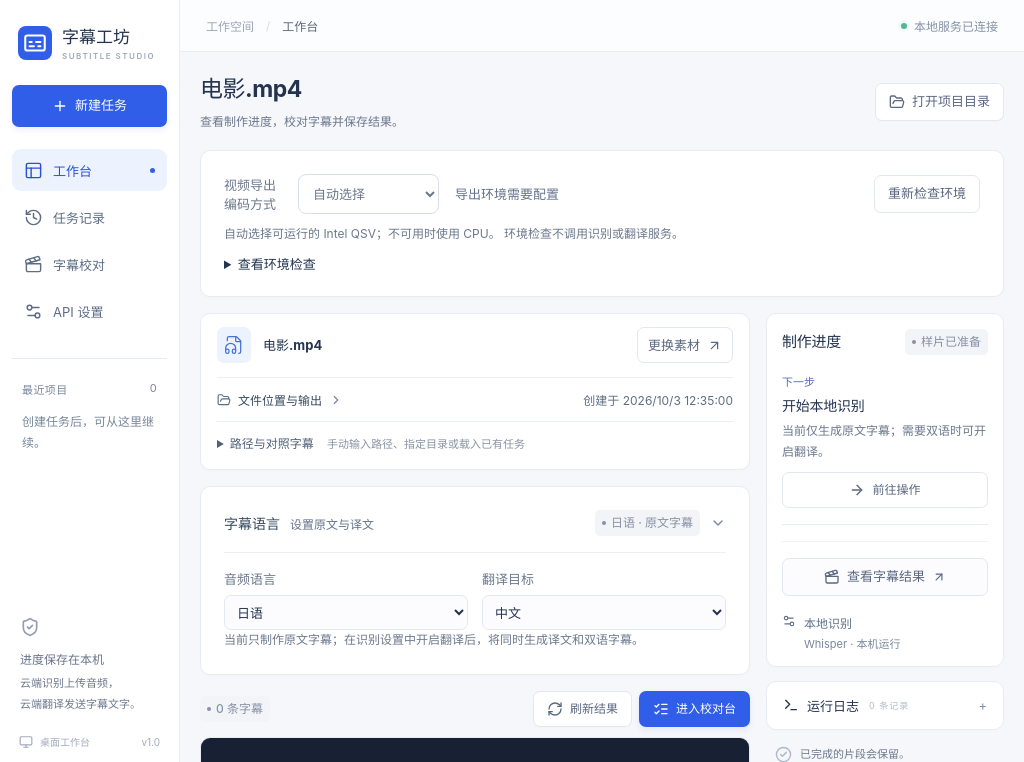
it: 桌面工作台的真实操作边界 › shows persisted file locations and creation time without exposing them on a new draft
This screenshot has width=1024, height=762.
Click the text "文件位置与输出" at [280, 400], box [238,391,322,408]
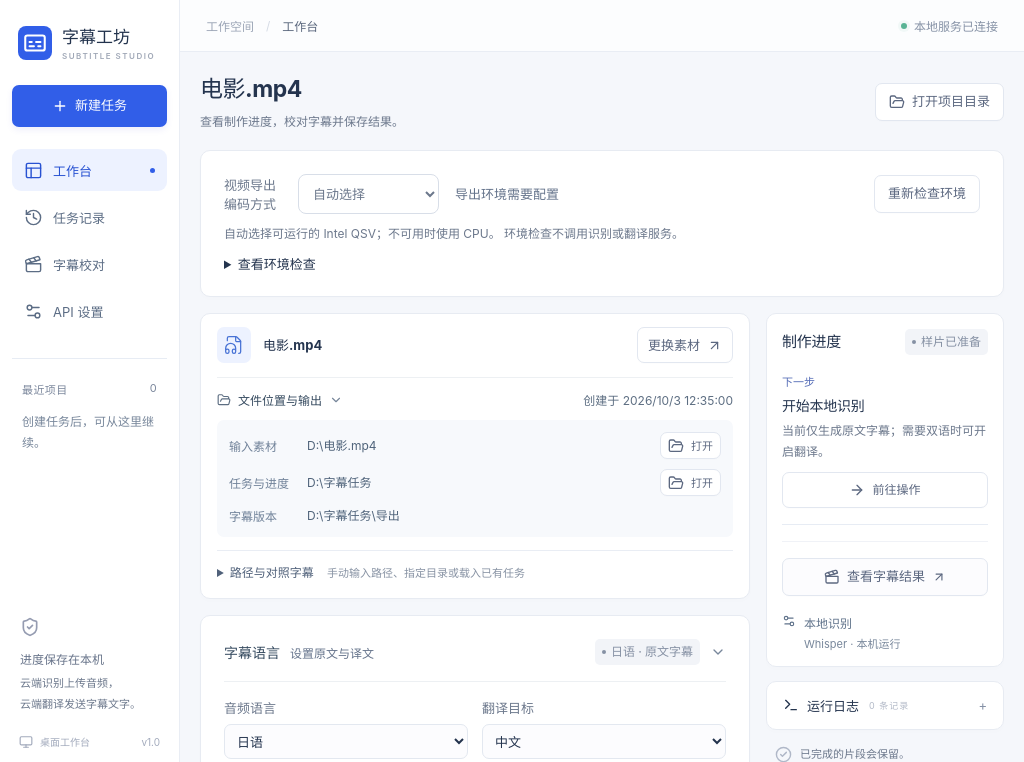
Click the button with aria-label "打开素材目录" at [690, 446], box [660,432,721,459]
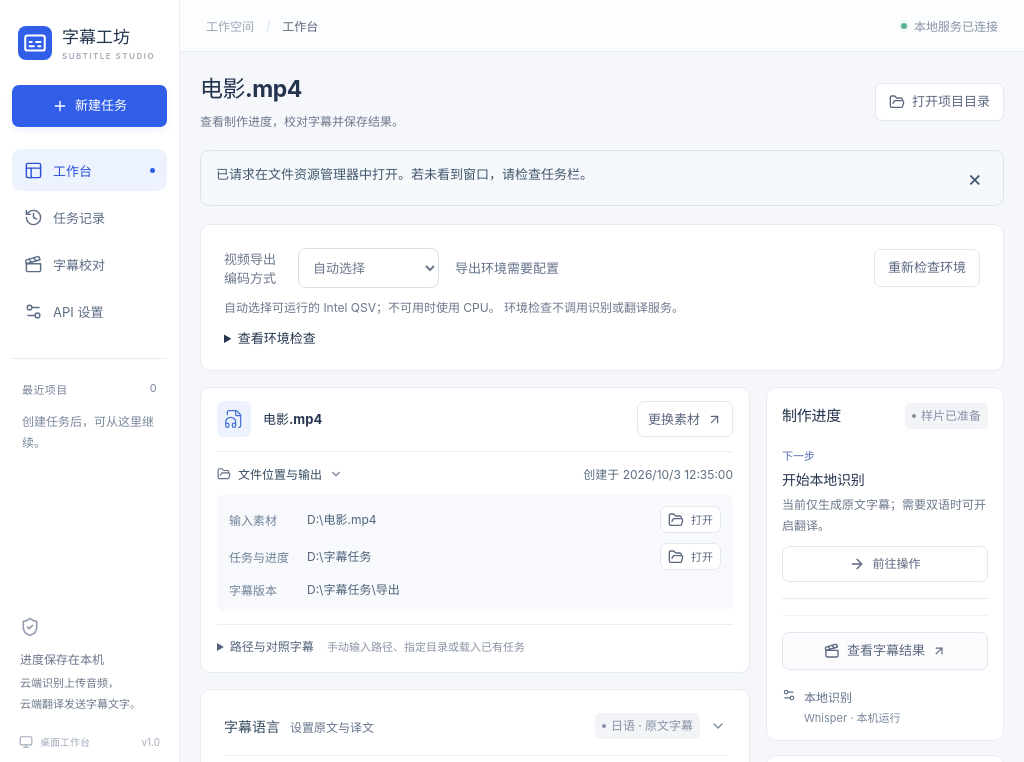
Click the button "新建任务" at [90, 106], box [12,85,167,127]
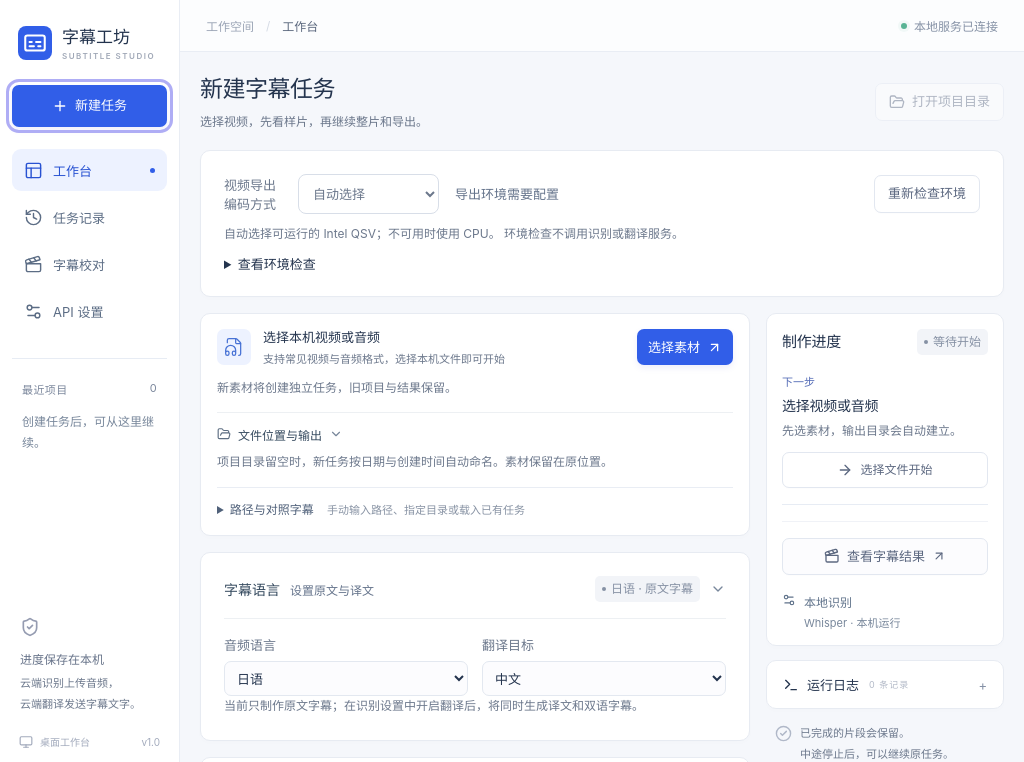
expect the text labelled "任务创建时间" is gone: met
expect the text "D:\\字幕任务\\导出" is gone: met
expect the text "项目目录留空时，新任务按日期与创建时间自动命名。素材保留在原位置。" is shown: met, box [217,454,613,469]
